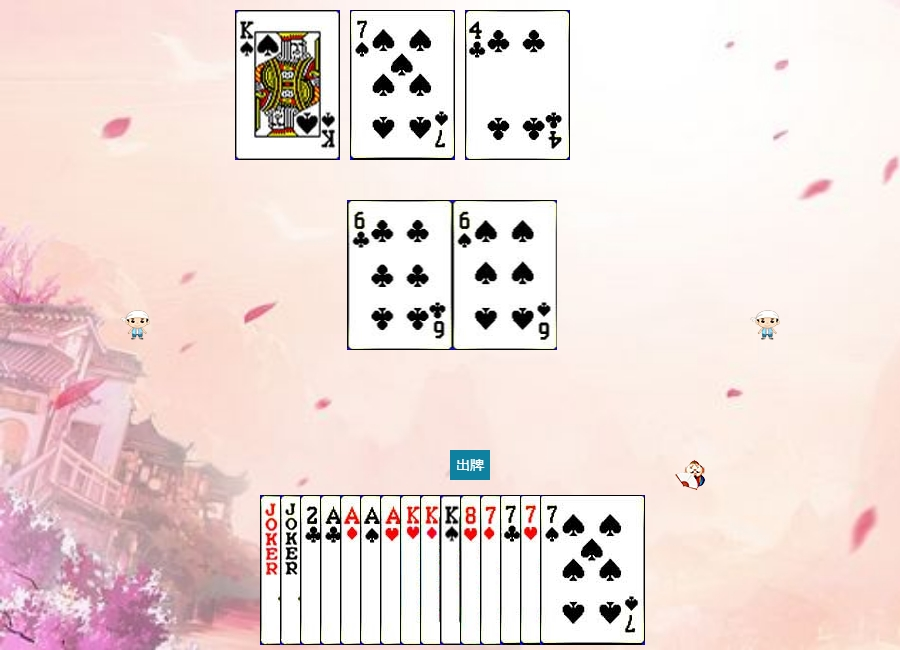13~1: (420, 495, 525, 645)
13~3: (400, 495, 505, 645)
13~4: (235, 10, 340, 160), (440, 495, 545, 645)
14~1: (340, 495, 445, 645)
14~2: (320, 495, 425, 645)
14~3: (380, 495, 485, 645)
14~4: (360, 495, 465, 645)
15~2: (300, 495, 405, 645)
17~3: (280, 495, 385, 645)
18~4: (260, 495, 365, 645)
4~2: (465, 10, 570, 160)
6~2: (348, 200, 453, 350)
6~4: (453, 200, 558, 350)
7~1: (480, 495, 585, 645)
7~2: (500, 495, 605, 645)
7~3: (520, 495, 625, 645)
7~4: (350, 10, 455, 160), (540, 495, 645, 645)
8~3: (460, 495, 565, 645)
